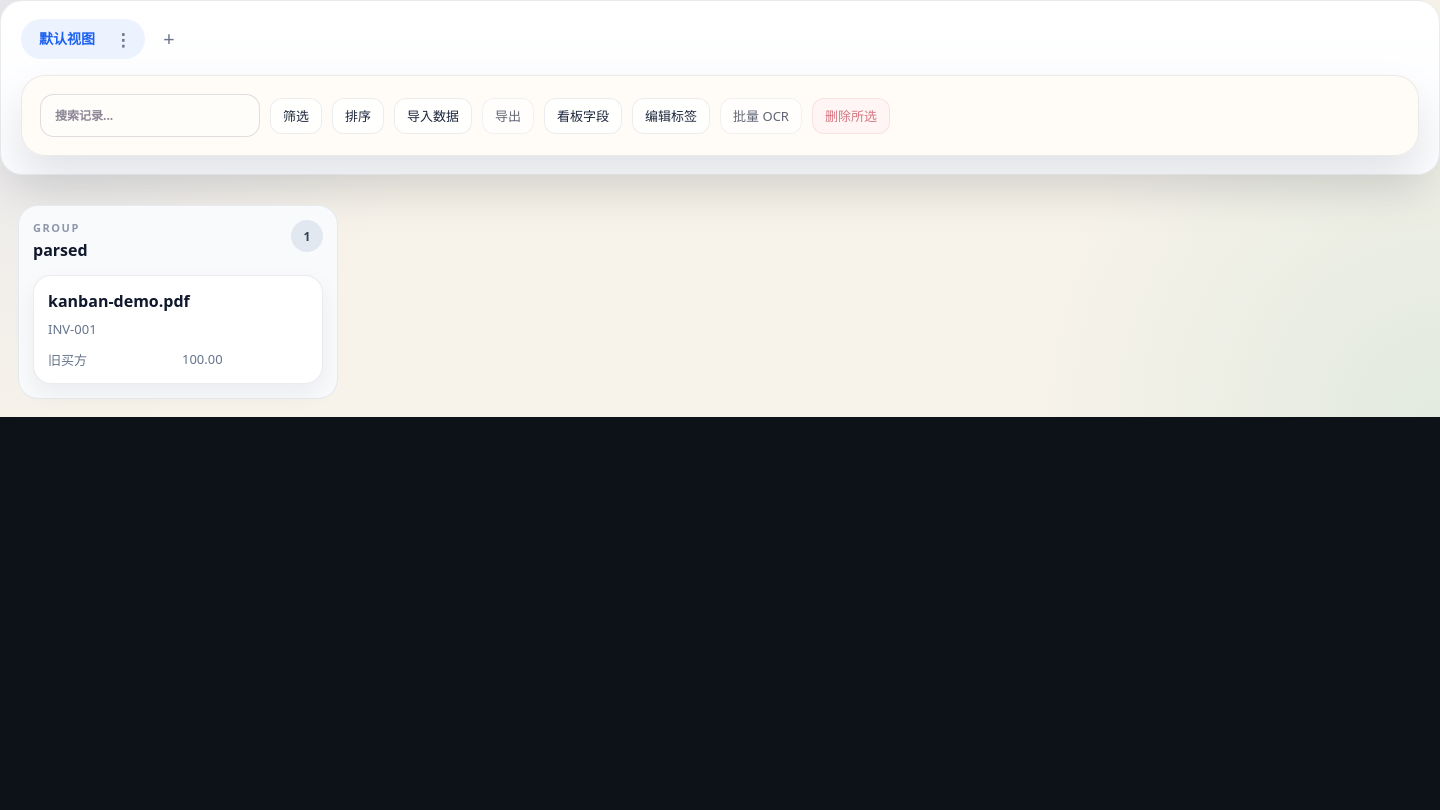
Test: InvoiceWorkspace interactions › shows kanban field controls and renders file names on cards
Expected: the button "kanban-demo.pdf INV-001 旧买方 100.00" is shown, x1=33 y1=275 x2=323 y2=384
Expected: the button "分组" is not shown
Click the button "看板字段". click: (583, 116)
box: x1=544 y1=98 x2=622 y2=134
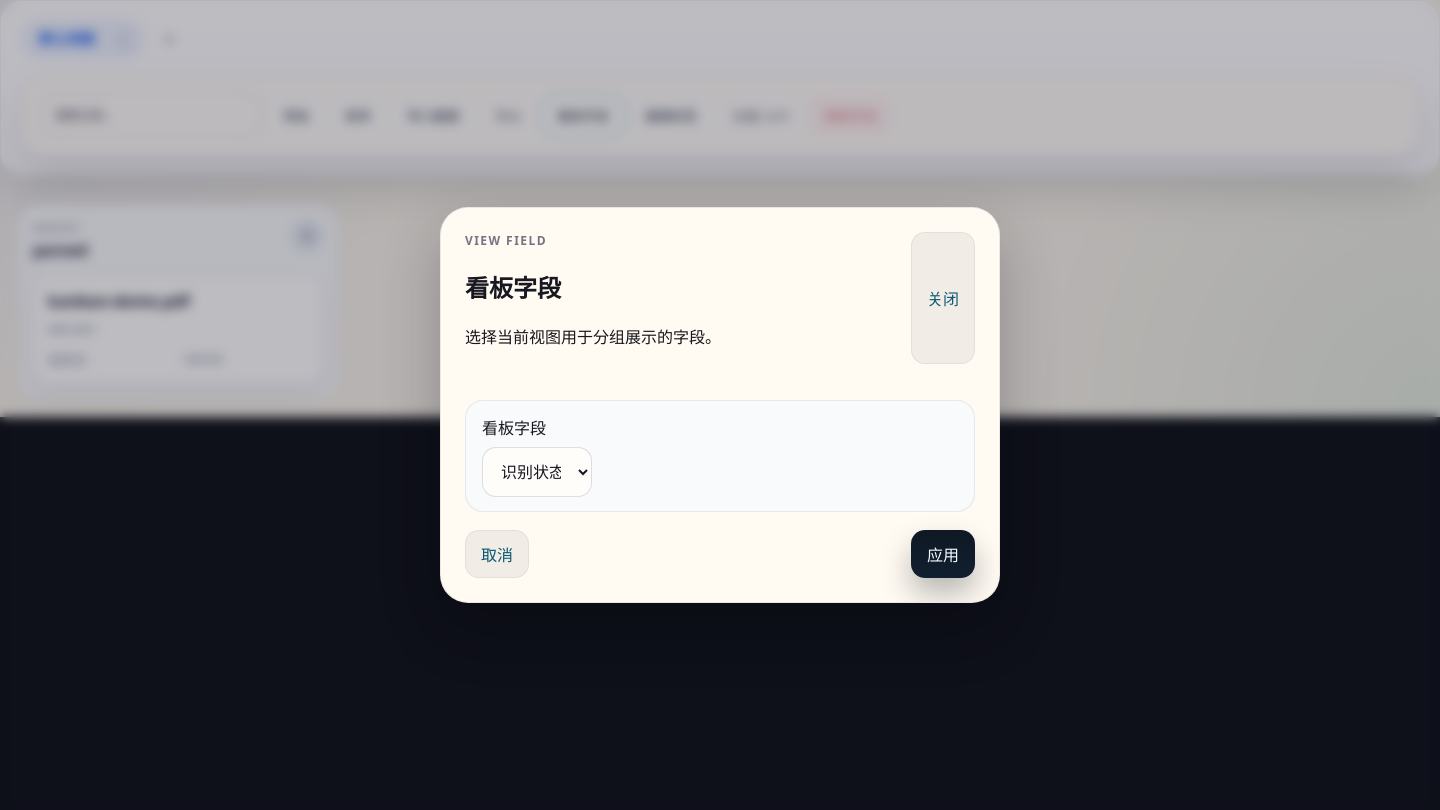
Now the dropdown labelled "看板字段" is shown, box x1=482 y1=447 x2=592 y2=497
